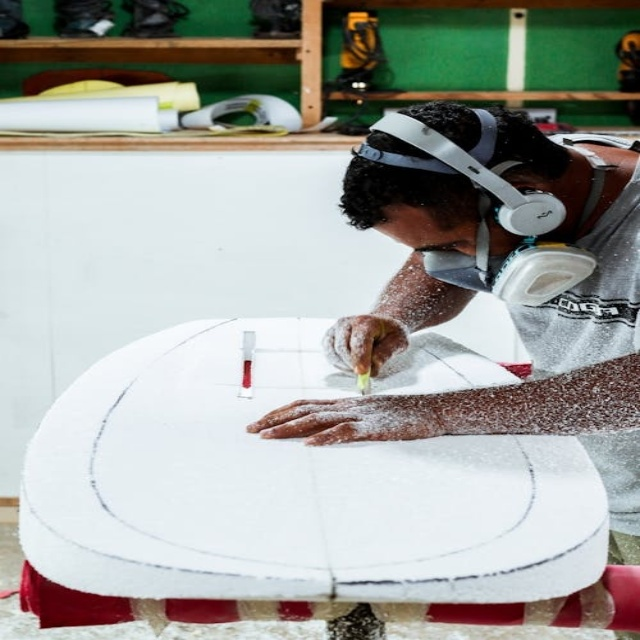Mascara: (415, 226, 603, 312)
Sin_gafas: (406, 224, 474, 259)
Sin_guantes: (247, 387, 453, 446), (322, 314, 407, 381)
